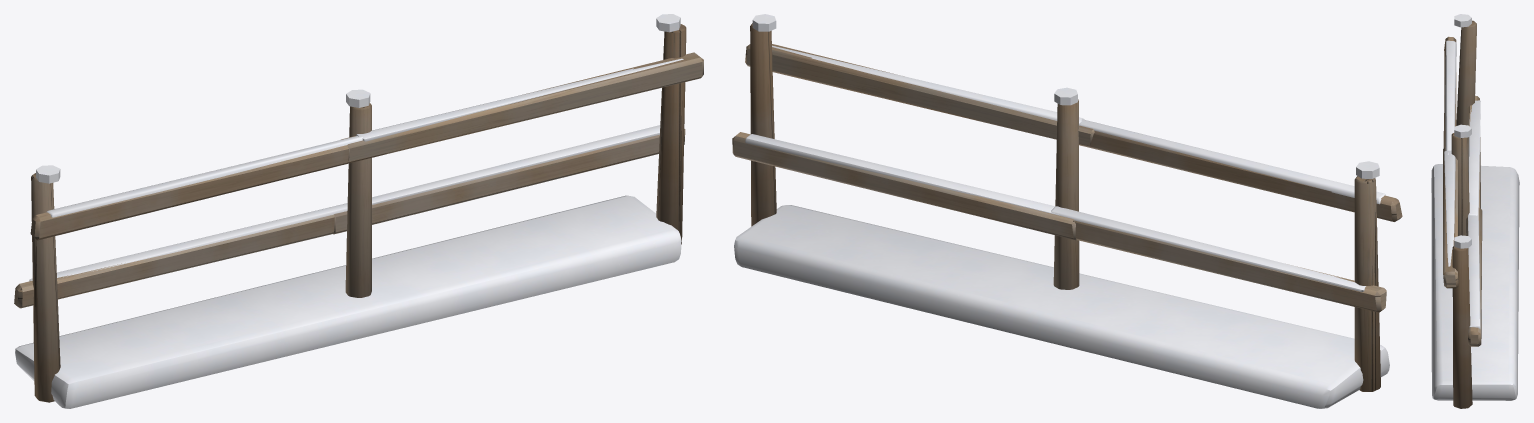
The model's file is farm_fence.glb.
3 views of the same model, side by side, from view 1: azimuth 30°, elevation 25°; view 2: azimuth 150°, elevation 25°; view 3: azimuth 270°, elevation 25° (orthographic). The views are drawn at different scales.
Parts seen in each view (by area): view 1: farm_fence; view 2: farm_fence; view 3: farm_fence.
Part boxes in pixels (bbox=[...]): farm_fence: bbox=[14, 14, 703, 408]; farm_fence: bbox=[732, 14, 1402, 408]; farm_fence: bbox=[1431, 14, 1519, 408].
Size of what is drawn, in the model's own units: 4.32 by 1.4 by 0.6724.
3 materials, 3 textured.
